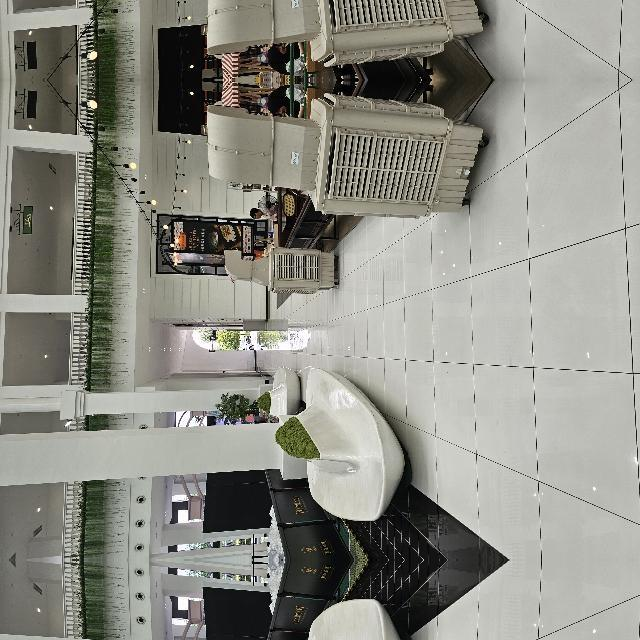obstacle: (339, 282, 468, 570), (47, 363, 191, 481), (339, 550, 468, 640), (263, 302, 315, 421), (47, 639, 191, 640)
